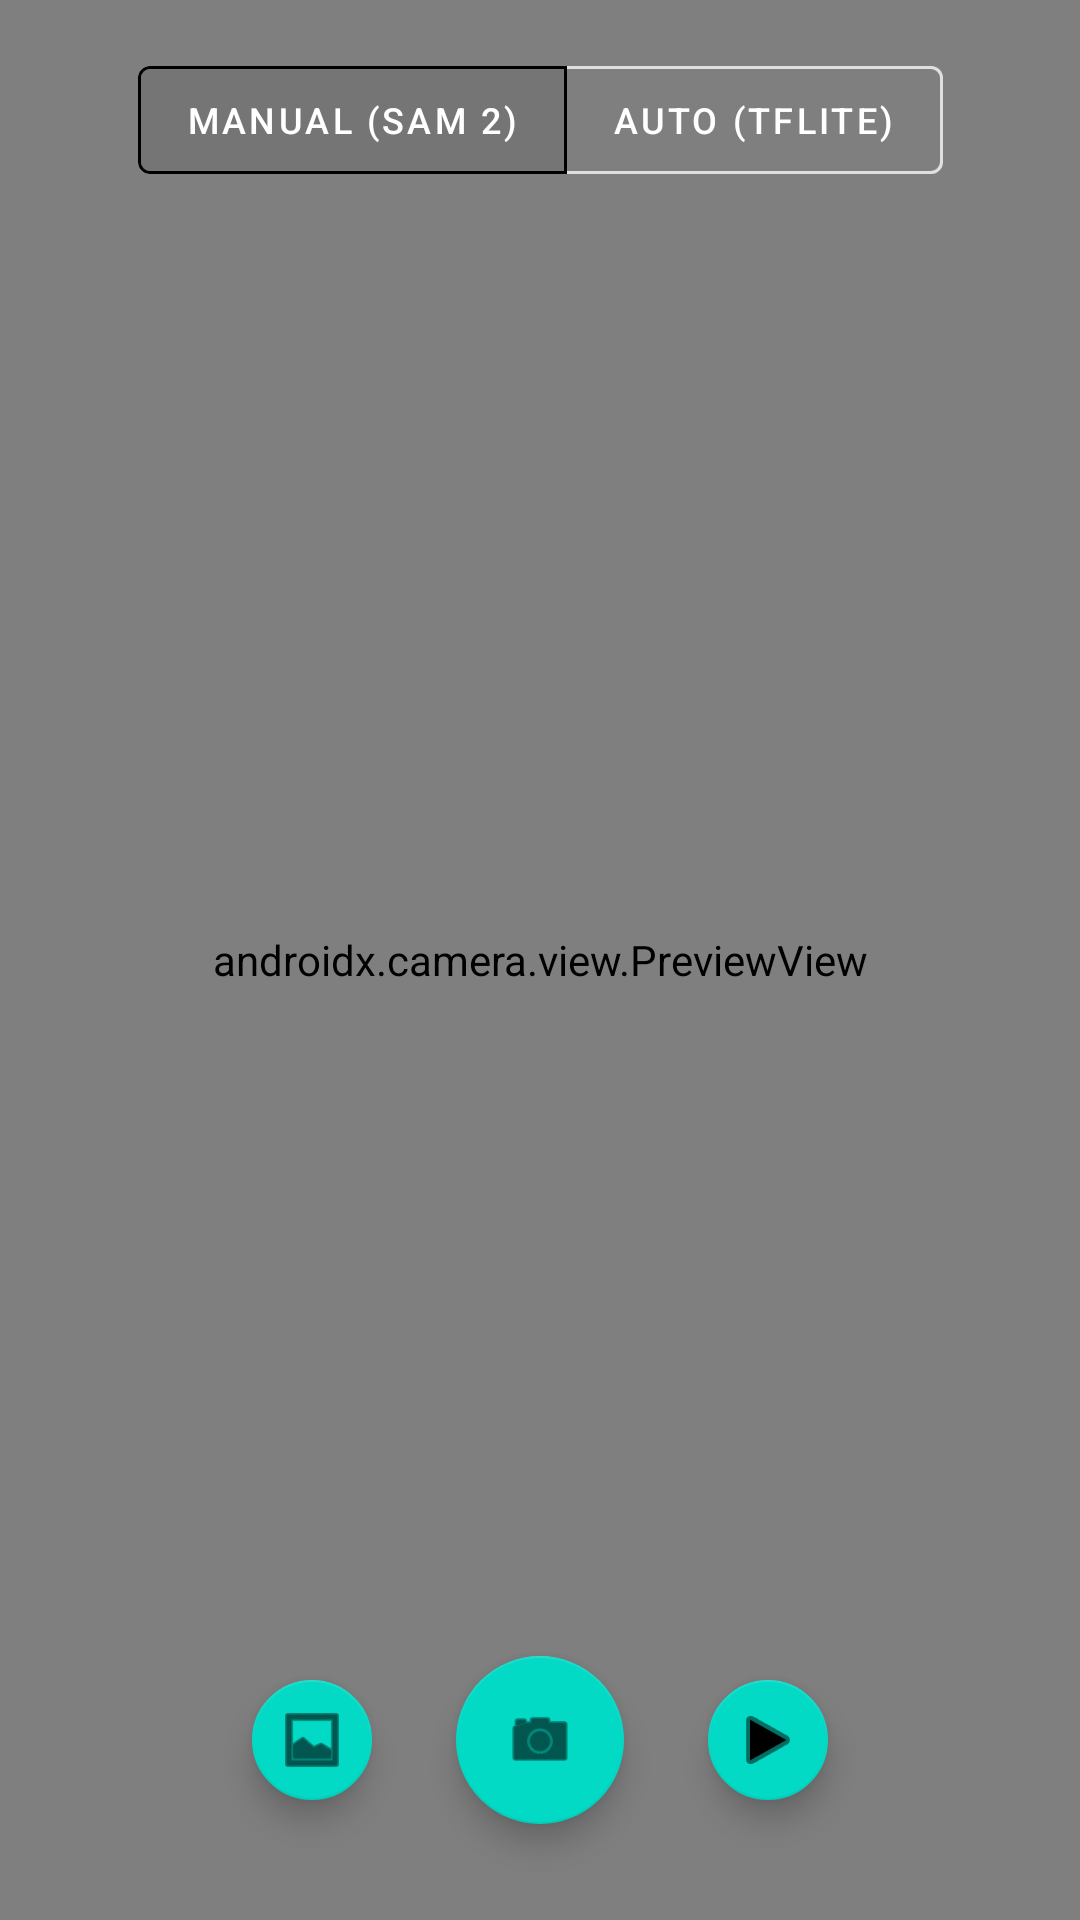

Locate icon controls on the screen. Image size 1080*1920, boxes as (x1, y1, x2, y2).
gallery: (252, 1680, 372, 1800)
play: (708, 1680, 828, 1800)
